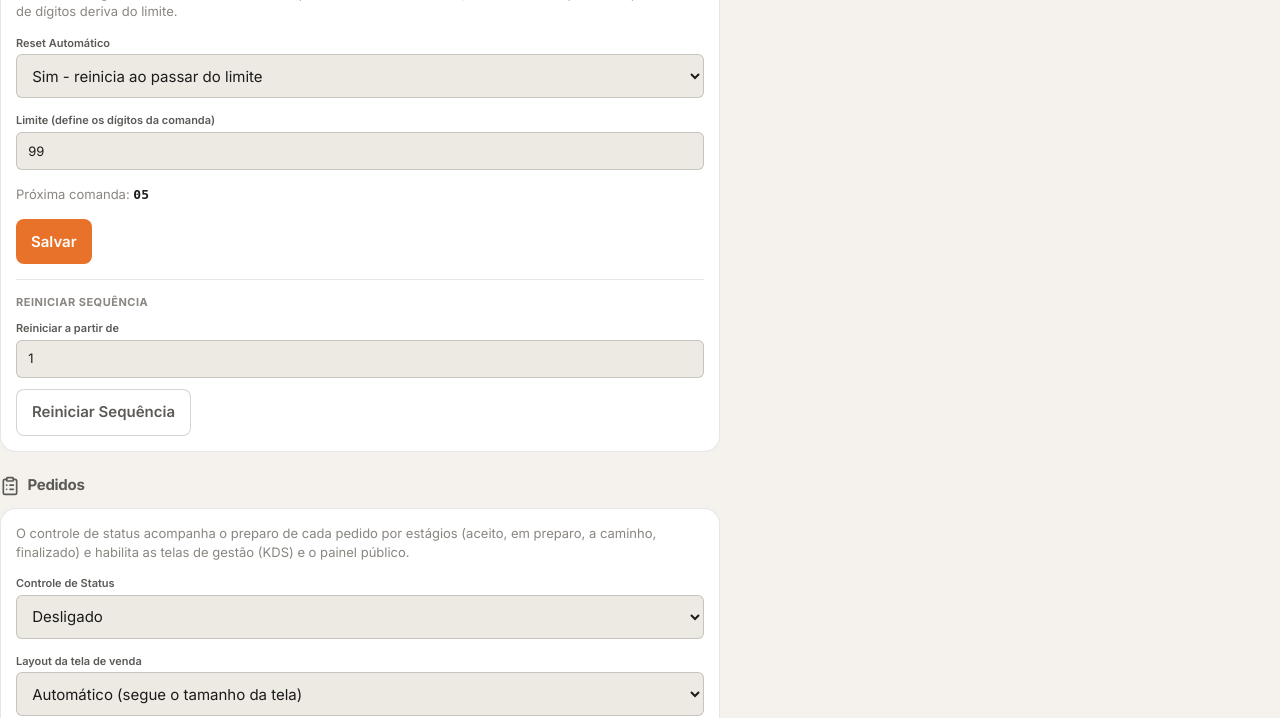
Scenario: SettingsPage › resets the sequence through the modal
(page scrolled)
Step 1. Replace the text in the number field labelled "Reiniciar a partir de" with "12" → (360, 359), box [16, 340, 704, 378]
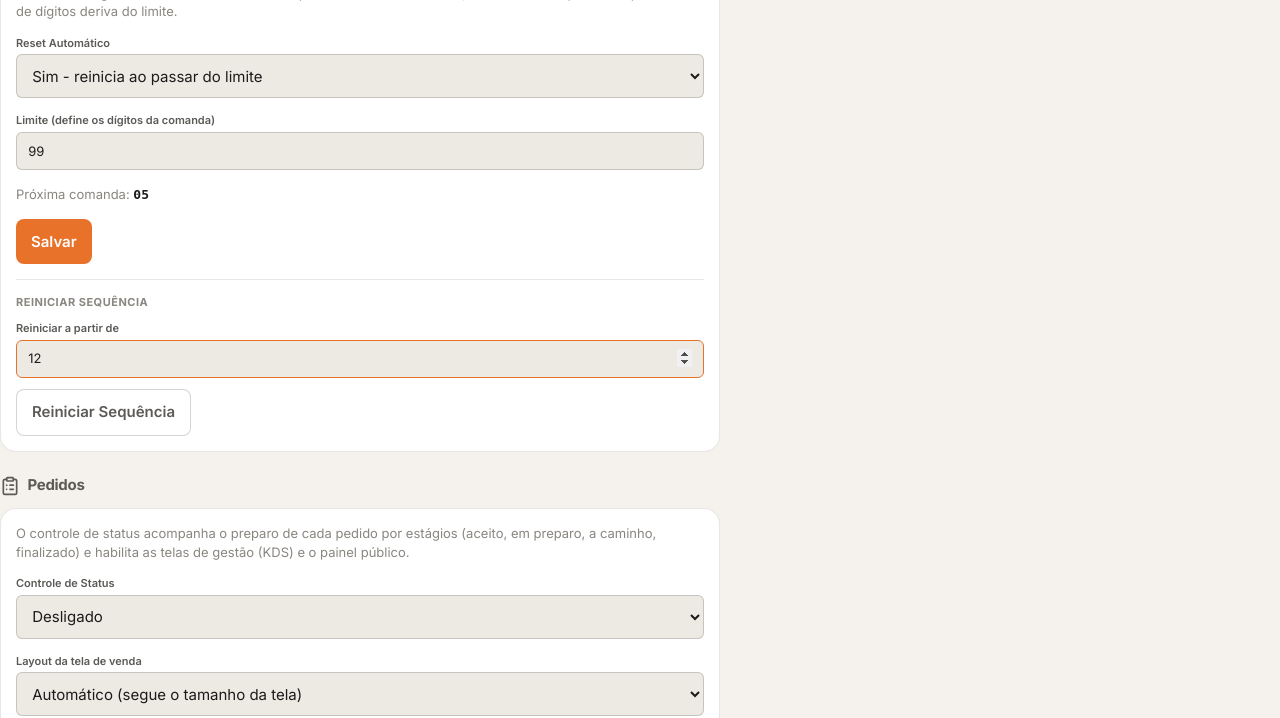
Step 2. Click the button "Reiniciar Sequência" → (104, 412), box [16, 389, 191, 436]
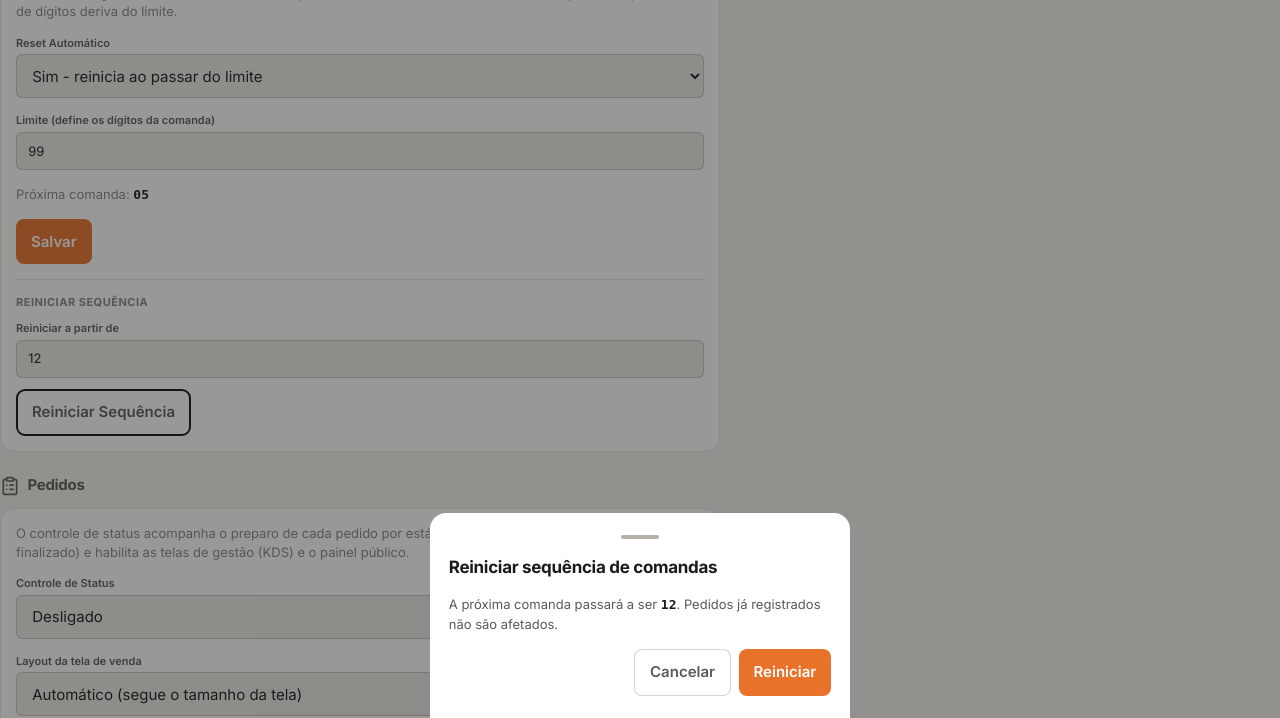
Now the text "12" is shown, box [661, 597, 676, 612]
Step 3. Click the button "Reiniciar" → (785, 672), box [738, 648, 831, 696]
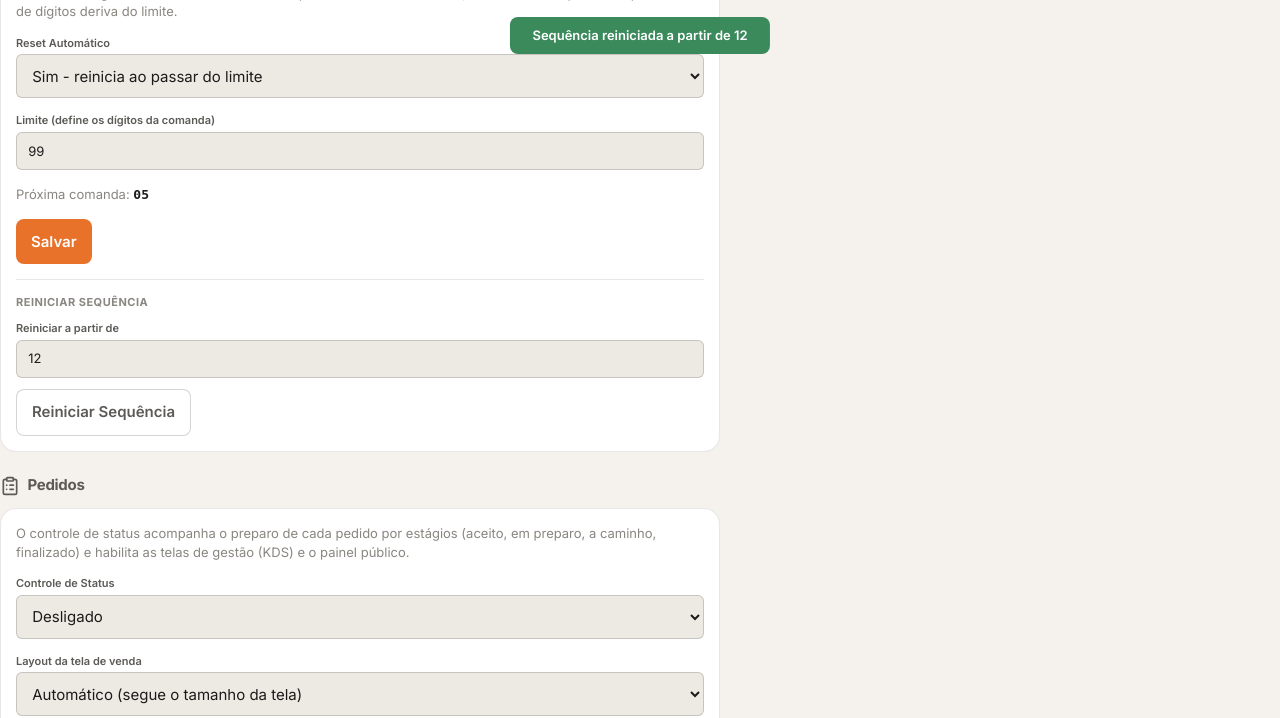
Now the dialog is gone
